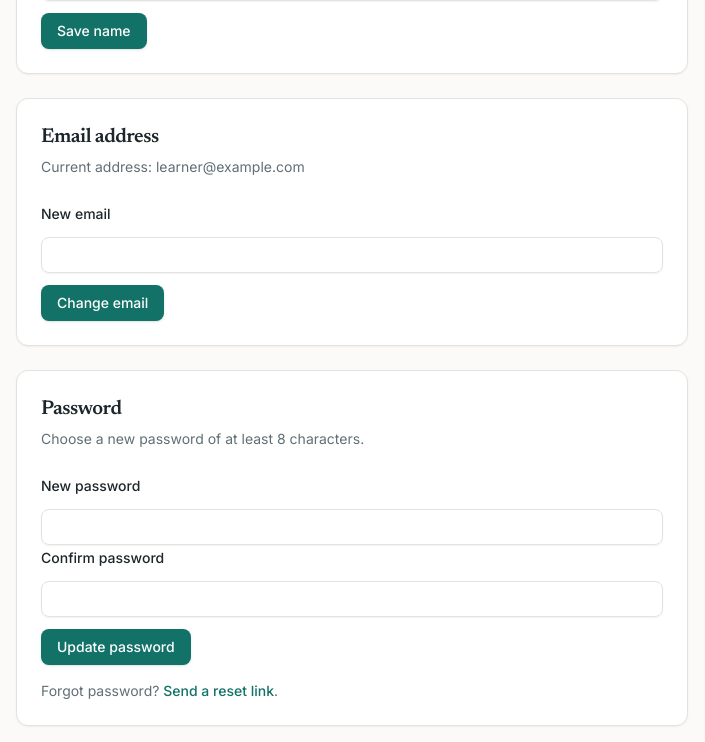
it: account settings › rejects mismatched passwords without sending an update
The width and height of the screenshot is (705, 742).
(page scrolled)
Type "password123" into the password field labelled "New password" at (352, 527), box [41,509,663,545]
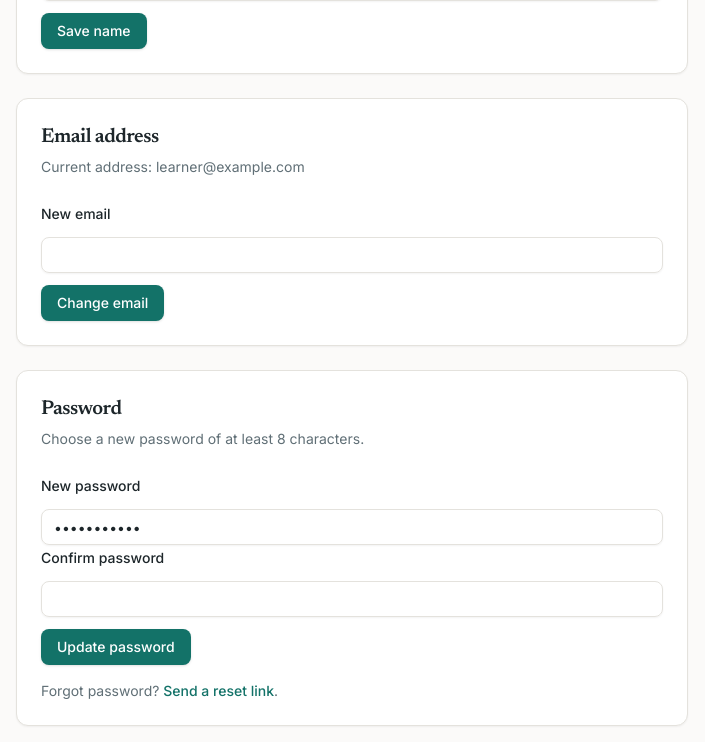
Type "somethingelse" into the password field labelled "Confirm password" at (352, 599), box [41,581,663,617]
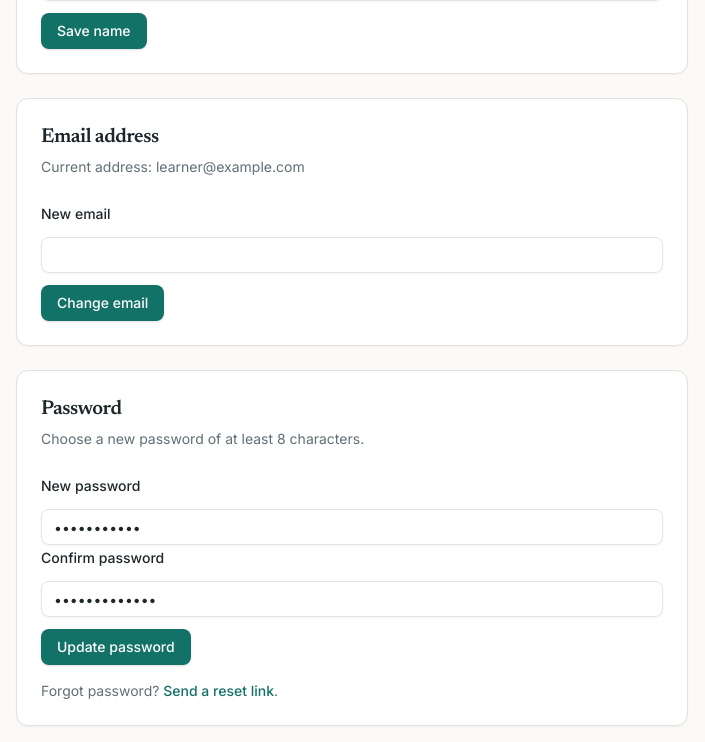
Click the button "Update password" at (116, 647), box [41,629,191,665]
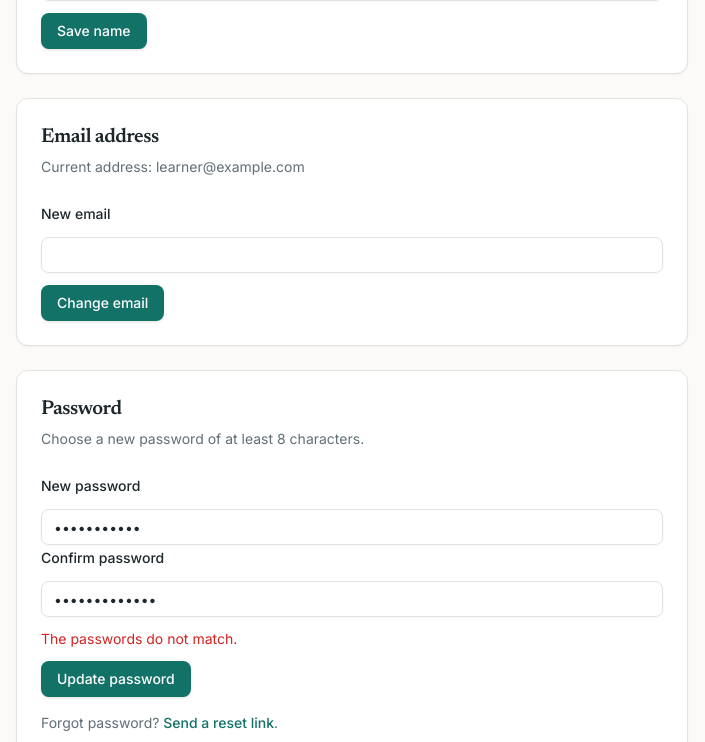
Check: the message shows "do not match", box [41,630,237,647]
